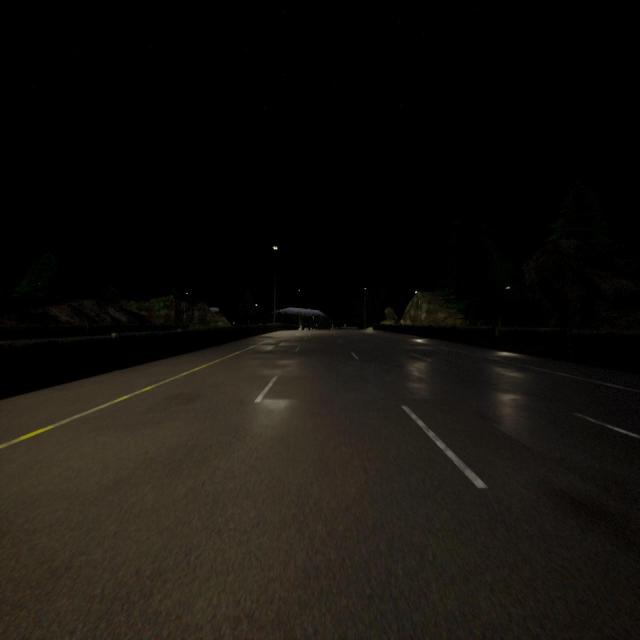Vehicle: (302, 320, 310, 331)
